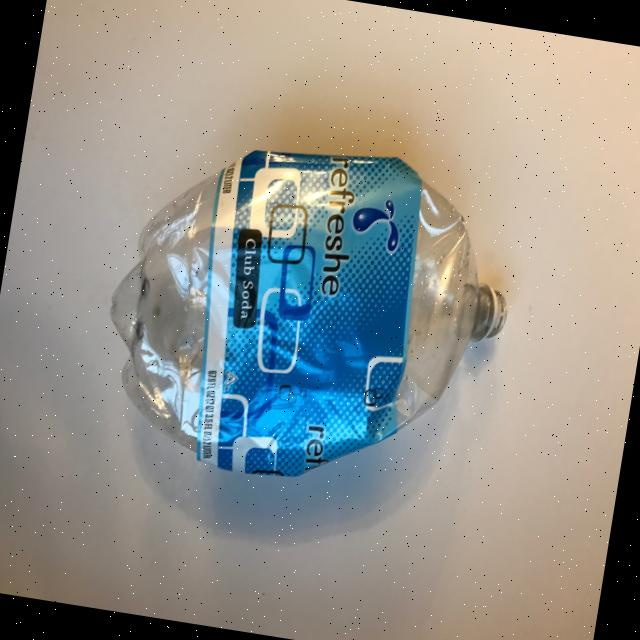plastic: (88, 116, 528, 512)
